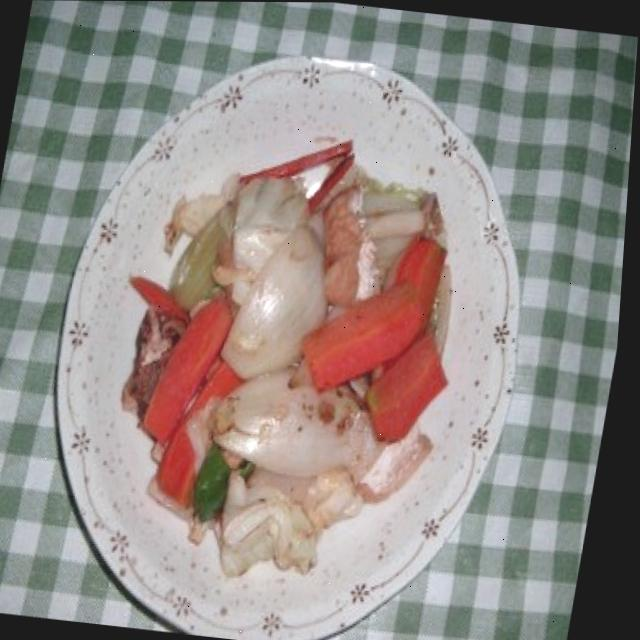蔬菜料理: (85, 112, 494, 597)
